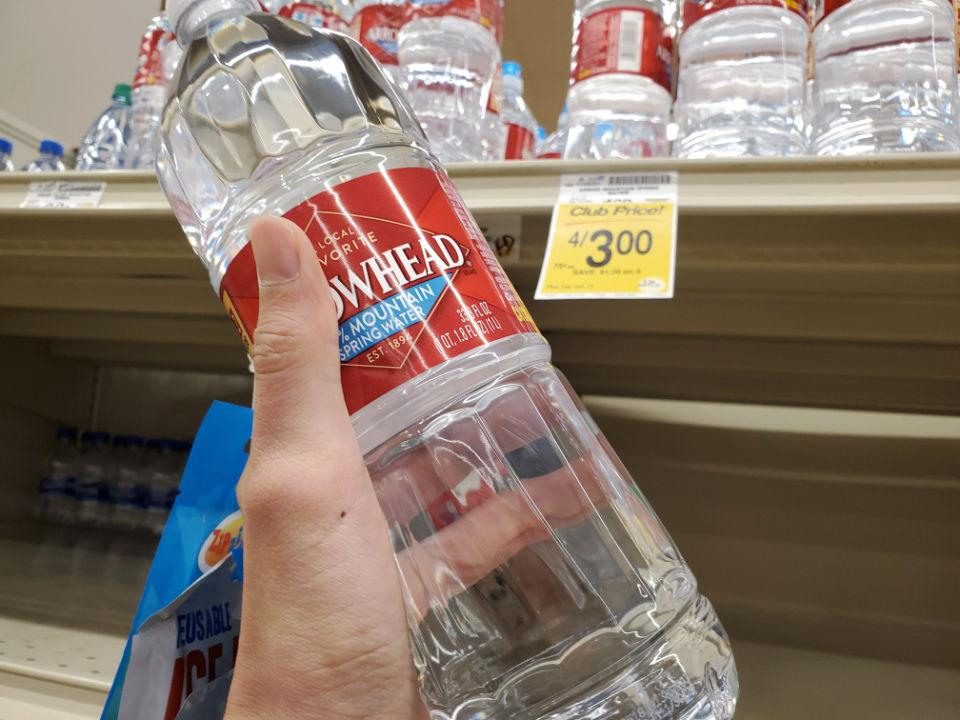plastic_bottle: (161, 2, 743, 720), (810, 1, 960, 158), (679, 1, 811, 160), (564, 1, 682, 157), (405, 1, 509, 159), (126, 1, 179, 168), (72, 82, 136, 165)
